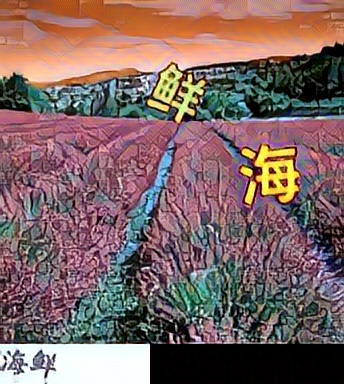BAA3: (238, 142, 300, 206)
CFCA: (146, 60, 208, 124)
